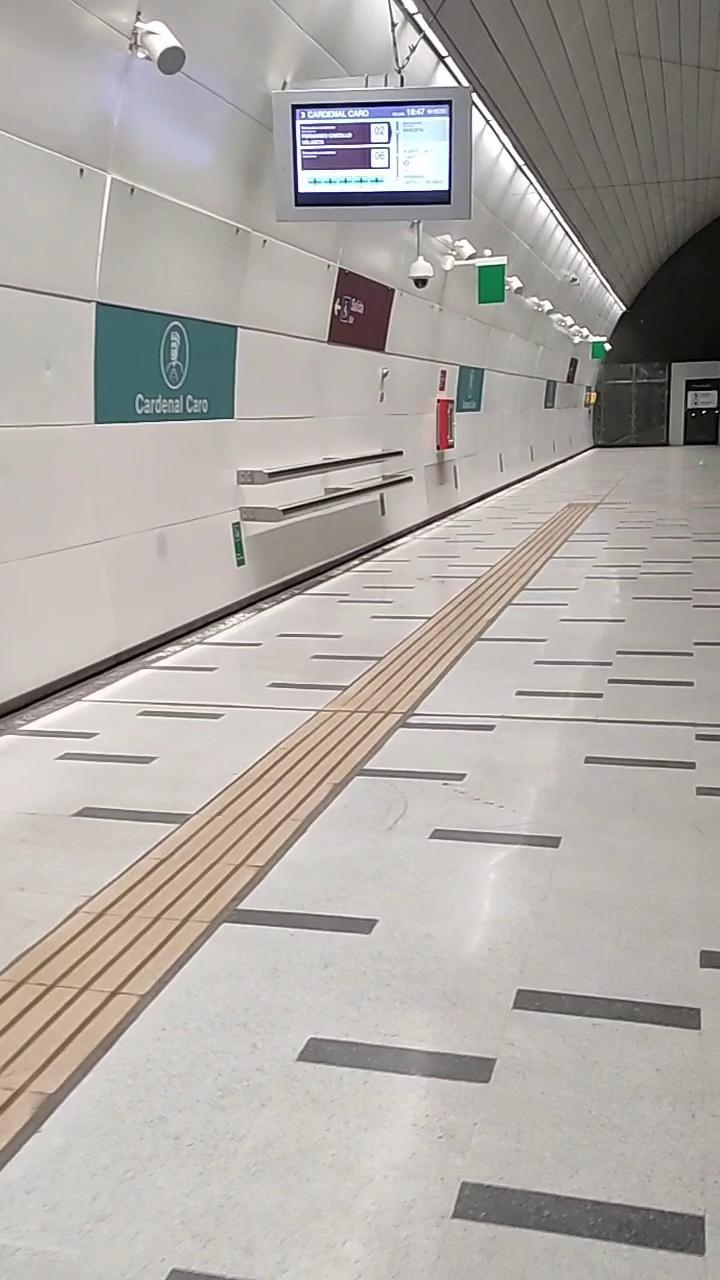handicapped symbol: (342, 298, 352, 320)
left arrow: (332, 296, 344, 320)
